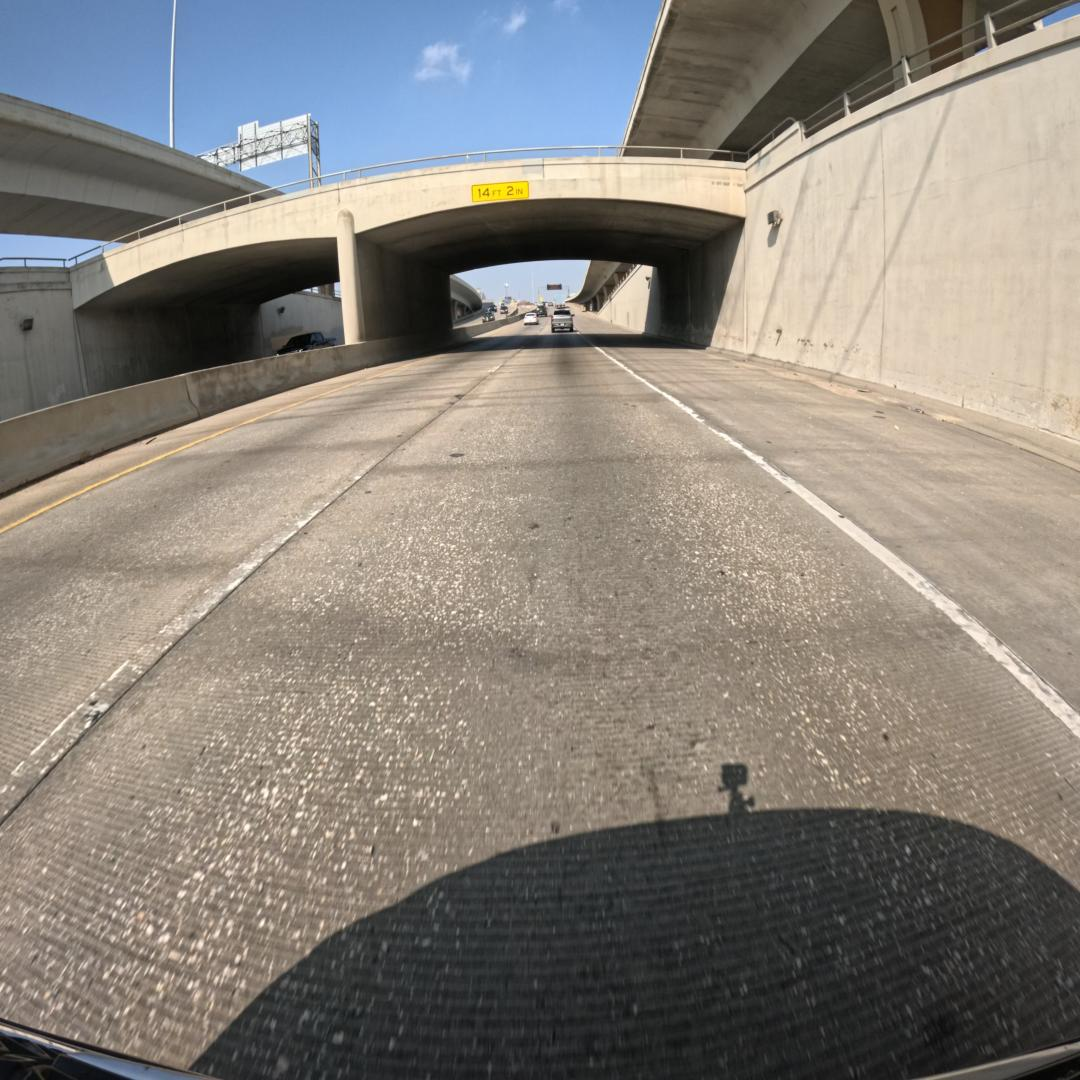lane0: (0, 338, 1080, 1080)
lane1: (0, 325, 525, 823)
